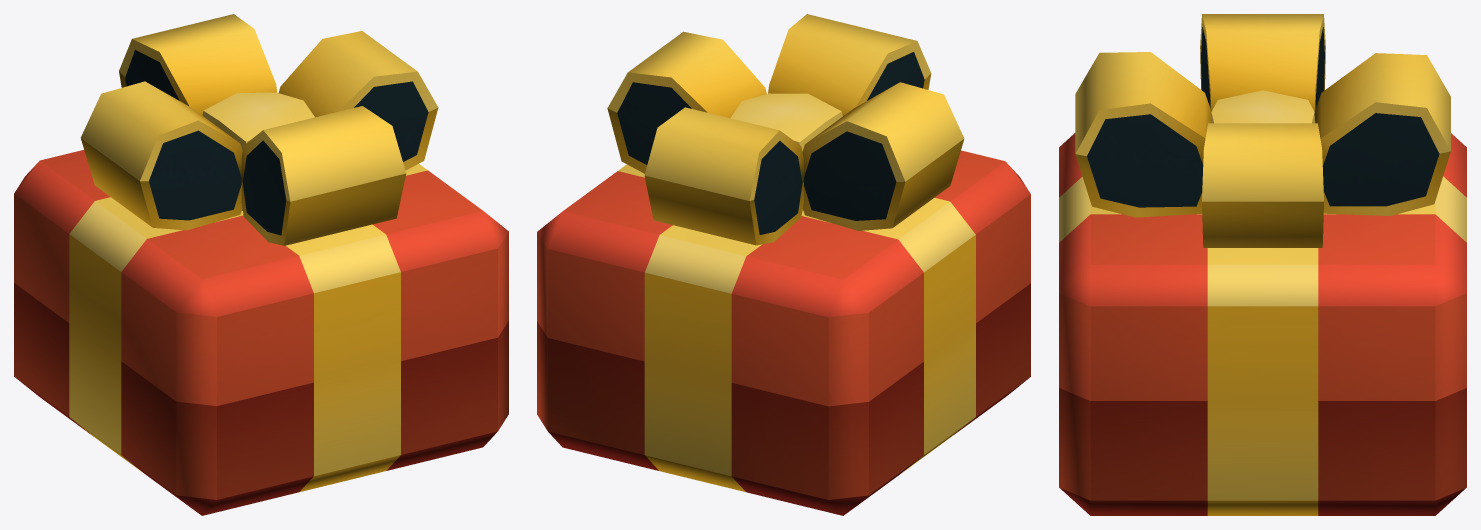
Rendered from presi_square_5_red.fbx.
The picture shows the model from 3 angles, left to right: view 1: azimuth 30°, elevation 25°; view 2: azimuth 150°, elevation 25°; view 3: azimuth 270°, elevation 25°; orthographic projection. The views are drawn at different scales.
Visible parts, largest first — view 1: presi_square_5_red; view 2: presi_square_5_red; view 3: presi_square_5_red.
Boxes of the visible parts, box(x1,y1,x2,y2) form: presi_square_5_red: box(14, 14, 508, 515); presi_square_5_red: box(537, 14, 1030, 515); presi_square_5_red: box(1059, 14, 1466, 515).
Bounding box in the file's own units: 75 × 74 × 75.
Materials: 1 (1 with a texture image).
